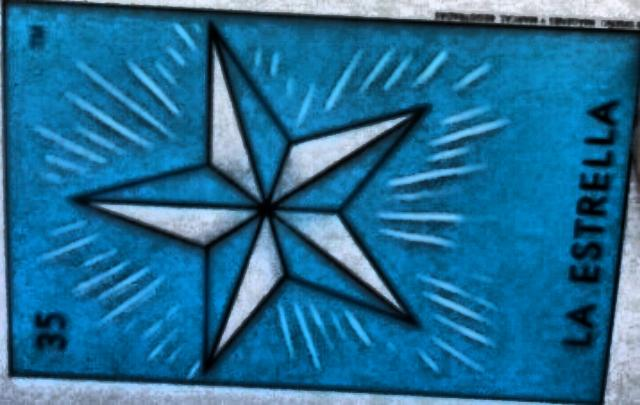La Estrella: (4, 2, 622, 405)
